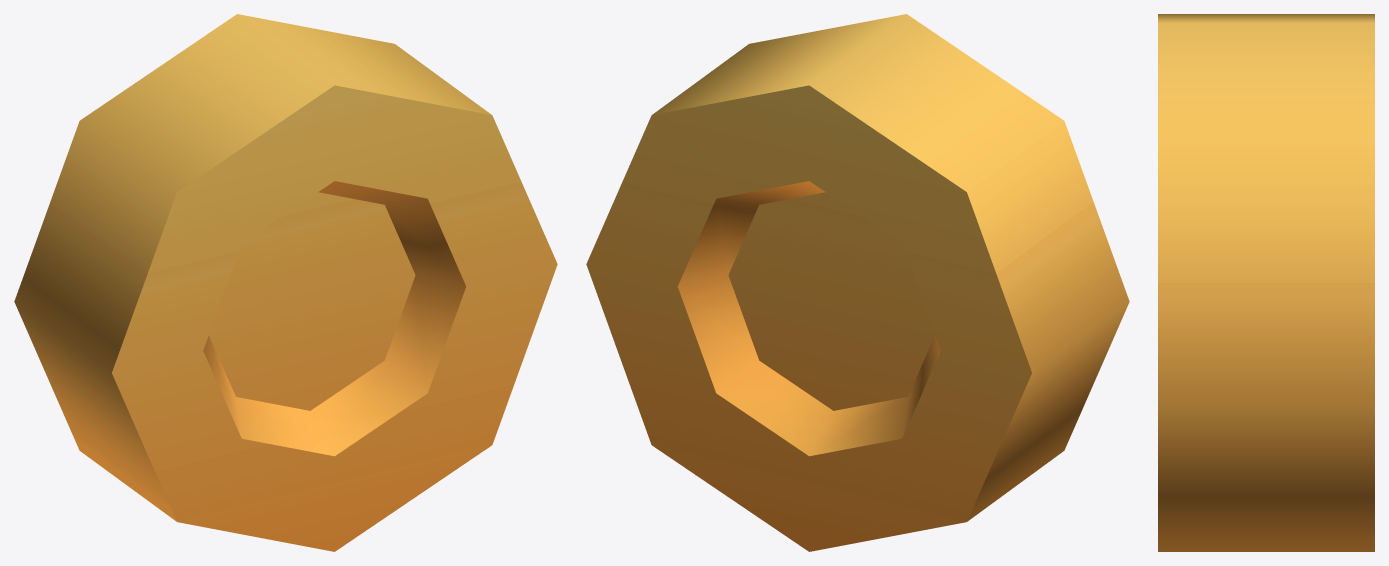
Rendered from item-coin-gold.glb.
3 renders of one model, left to right at view 1: azimuth 30°, elevation 25°; view 2: azimuth 150°, elevation 25°; view 3: azimuth 270°, elevation 25°, orthographic. The views are drawn at different scales.
Visible parts, largest first — view 1: item-coin-gold; view 2: item-coin-gold; view 3: item-coin-gold.
Part boxes in pixels (<box>): item-coin-gold: <box>14,14,557,551</box>; item-coin-gold: <box>586,14,1129,551</box>; item-coin-gold: <box>1158,14,1374,551</box>.
Size of the model in its own units: 0.264 by 0.264 by 0.1.
Materials: 1 (1 with a texture image).
